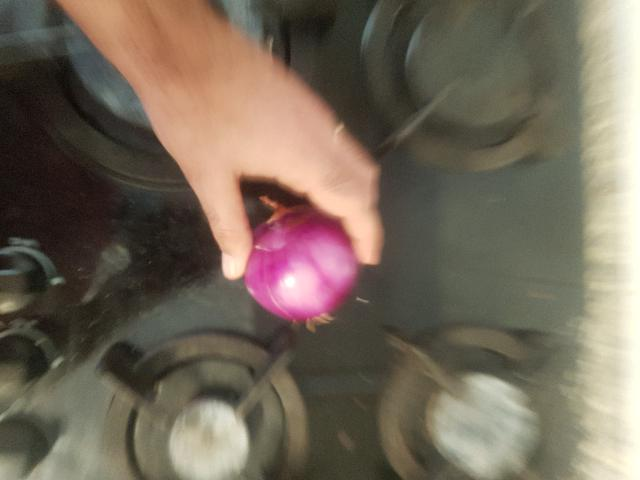onion: (342, 283, 475, 429)
